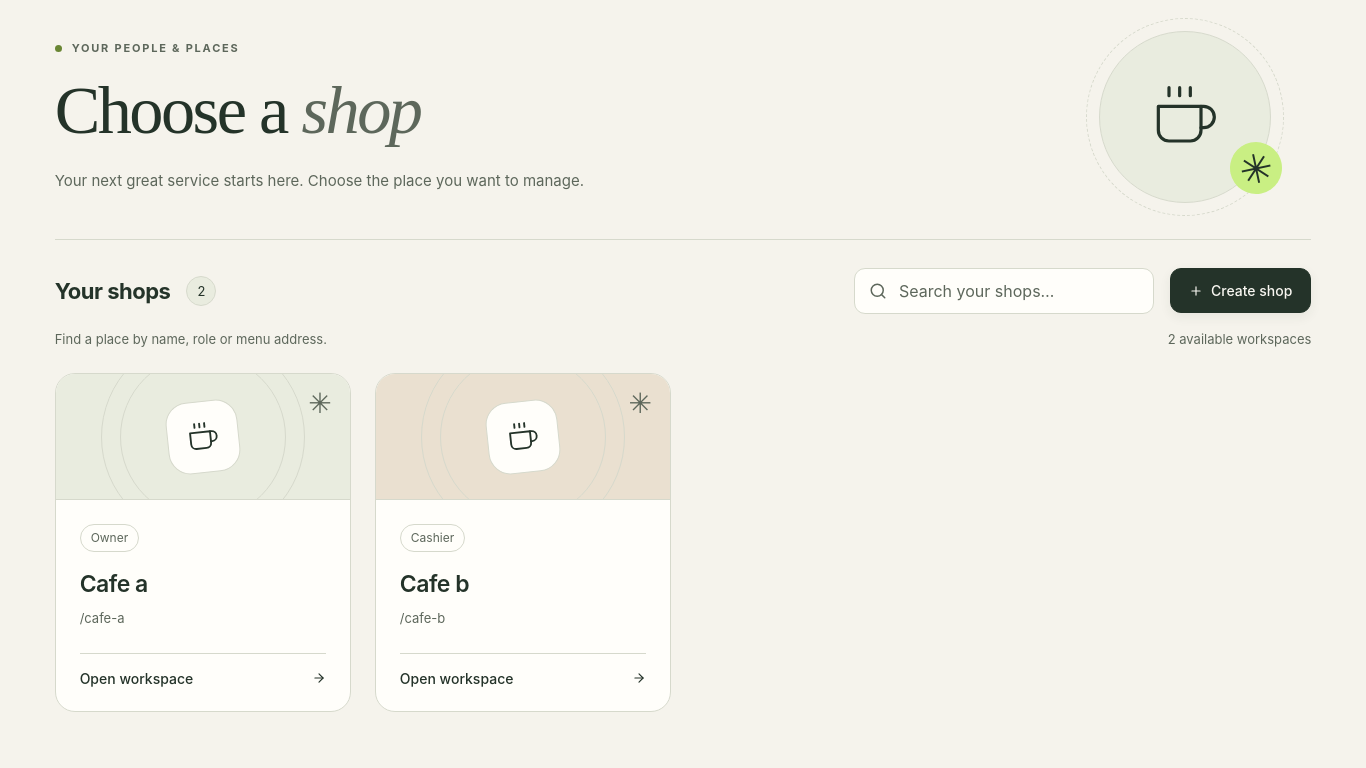
Test: offers an explicit choice for multiple shops and switches role and context
The image size is (1366, 768).
(page scrolled)
Click the link "✳ owner Cafe a /cafe-a Open workspace". click: (203, 437)
box: [55,373,351,712]
(page scrolled)
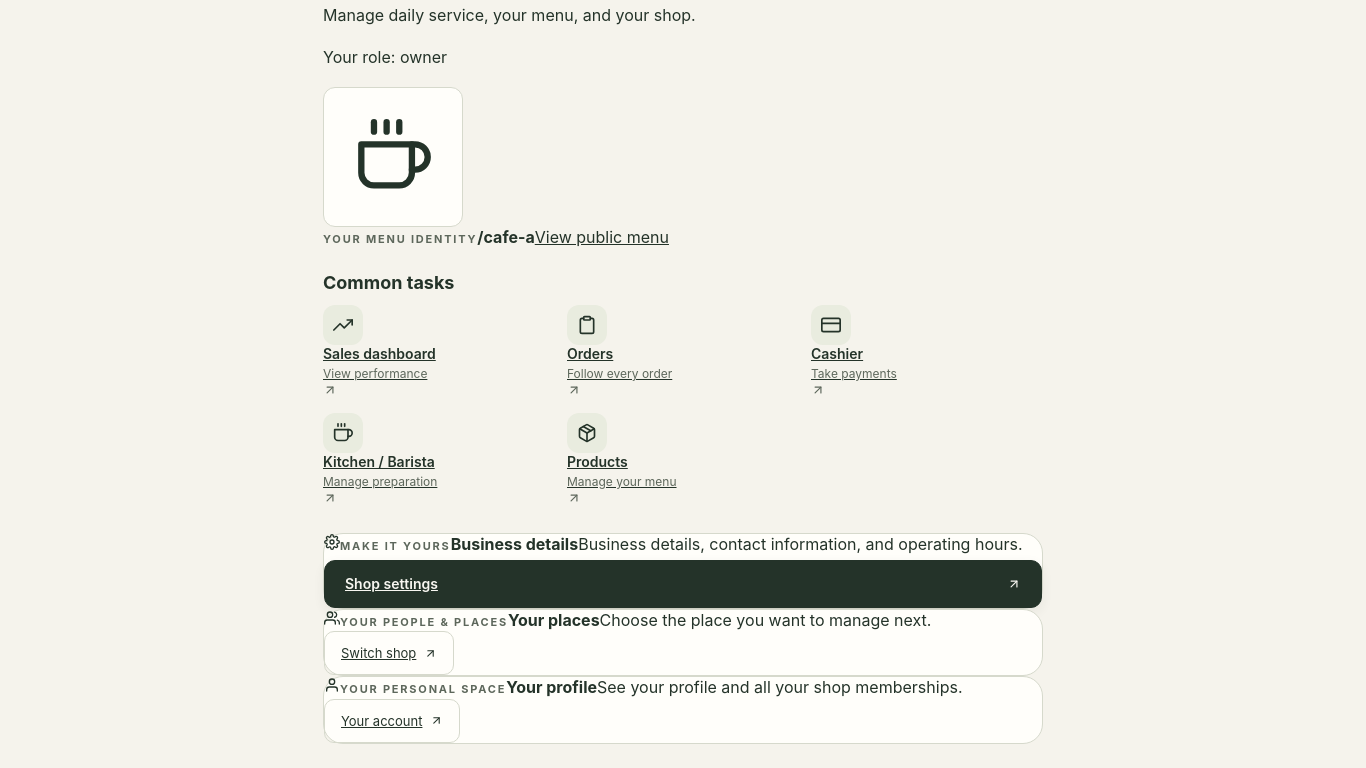
Expected: the text "Your role: owner" is shown, [323,47,447,67]
Click the link "Switch shop". click: (389, 653)
box: [324,631,454,675]
(page scrolled)
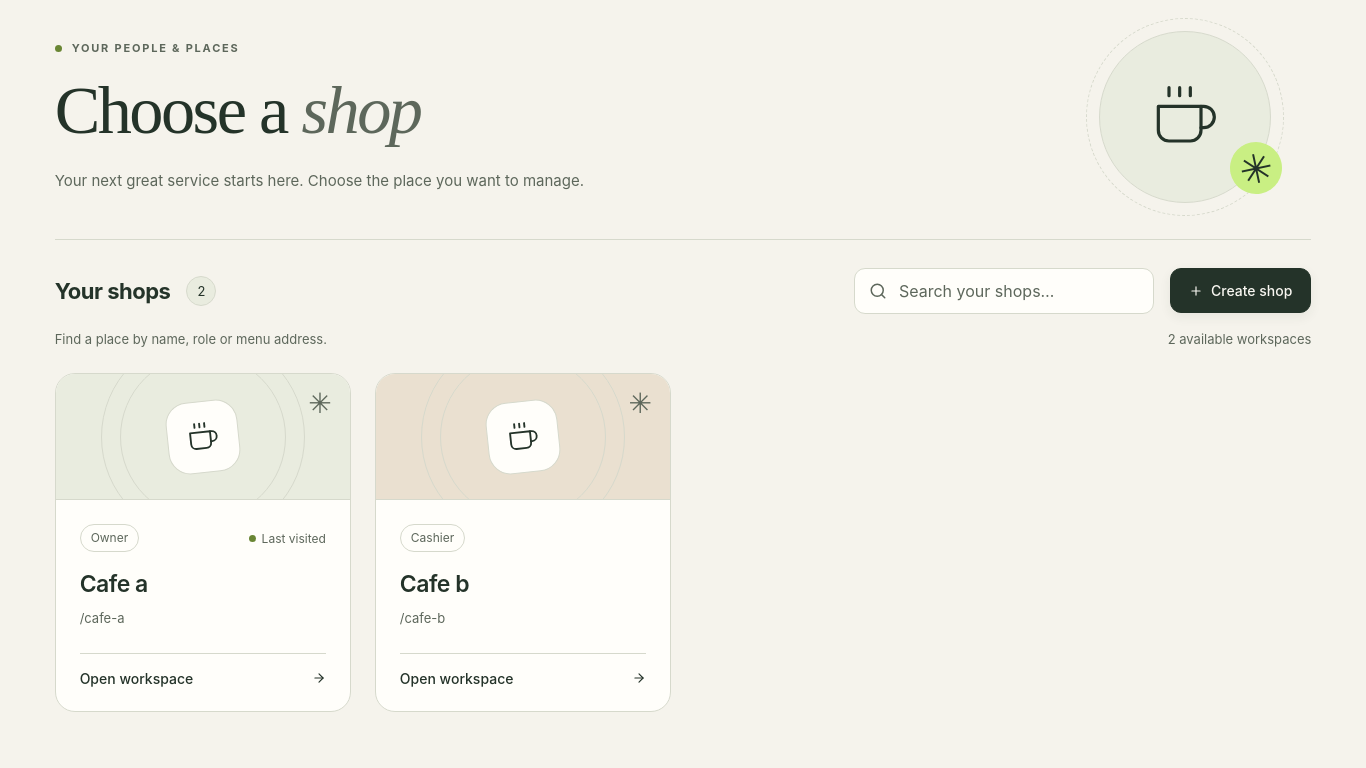
Click the link "✳ cashier Cafe b /cafe-b Open workspace". click: (523, 437)
box: [375,373,671,712]
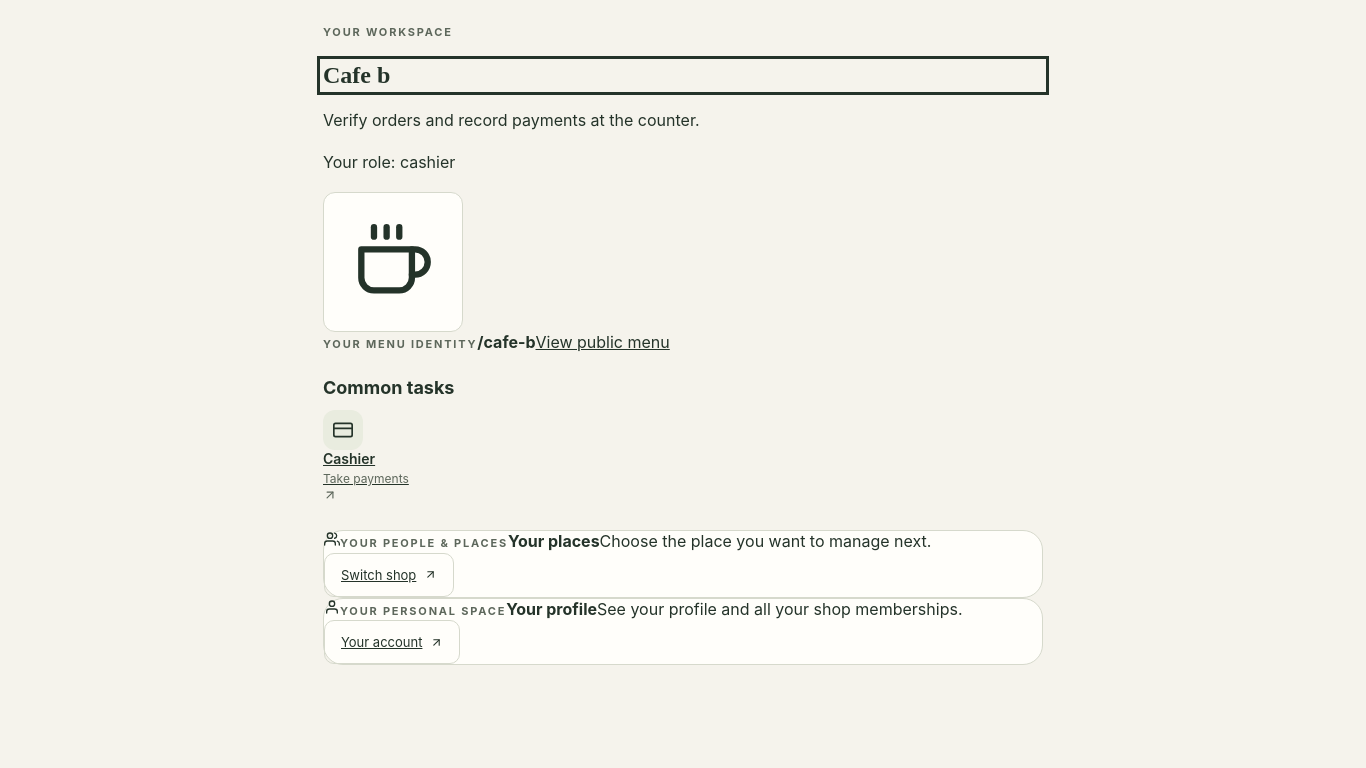
Expected: the text "Your role: owner" is not shown
Expected: the text "Your role: cashier" is shown, [323,152,455,172]
